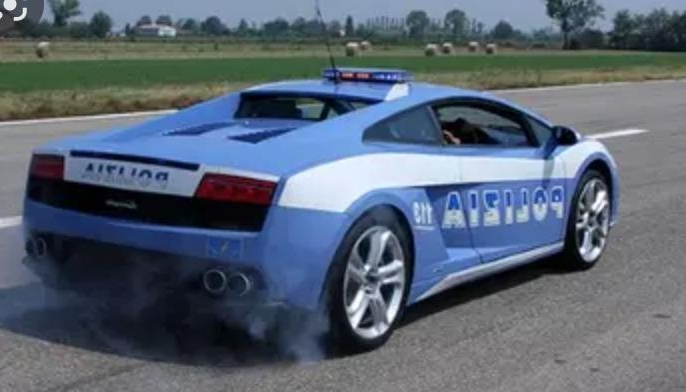car: (18, 42, 632, 353)
